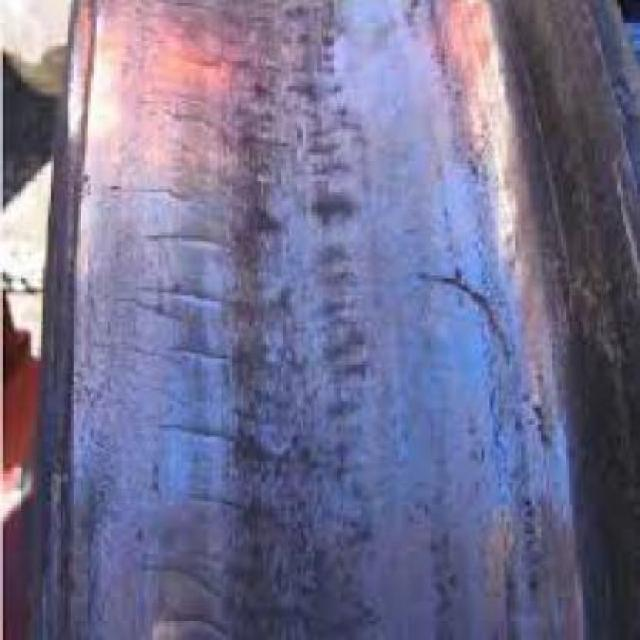defective: (52, 0, 582, 640)
